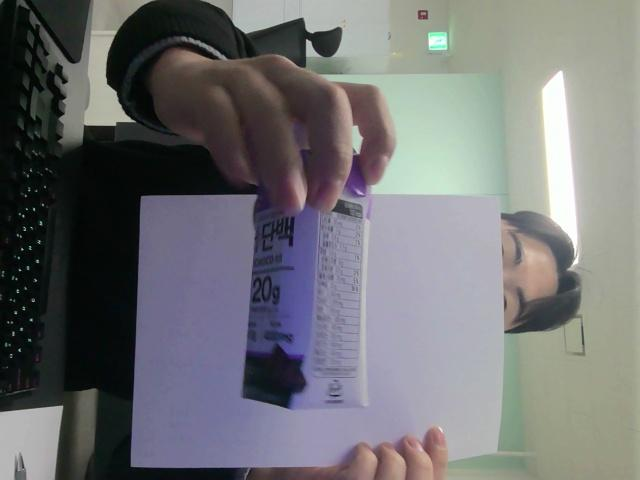milk: (243, 164, 371, 408)
